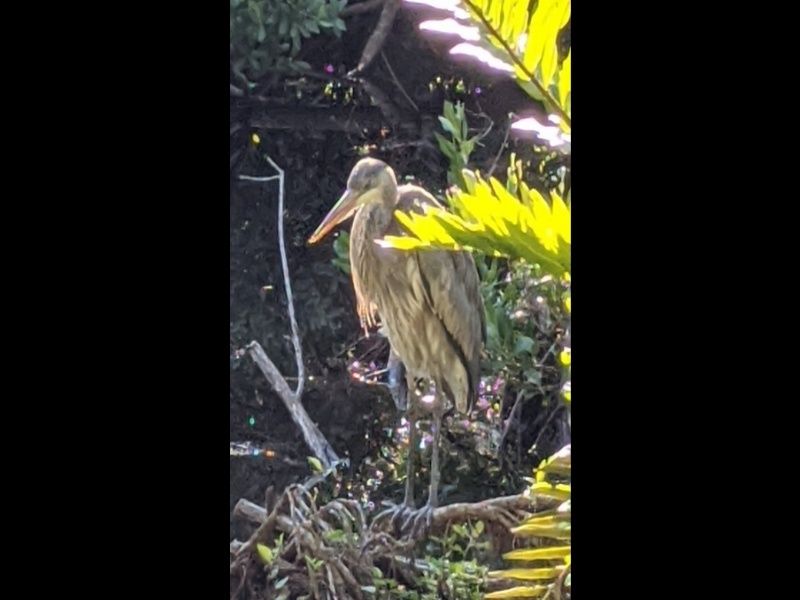heron: (304, 158, 491, 537)
